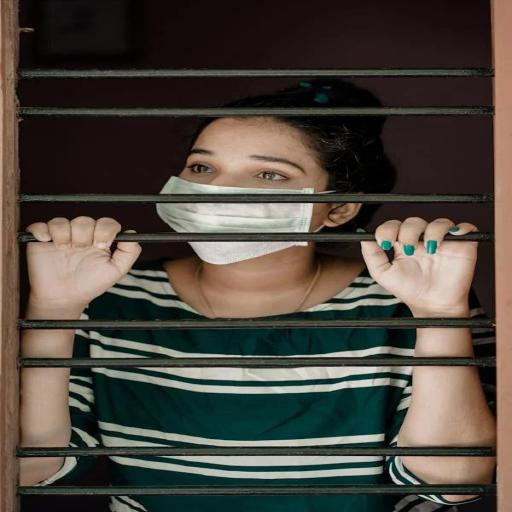mask: (128, 93, 366, 274)
